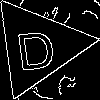D: (12, 21, 58, 71)
